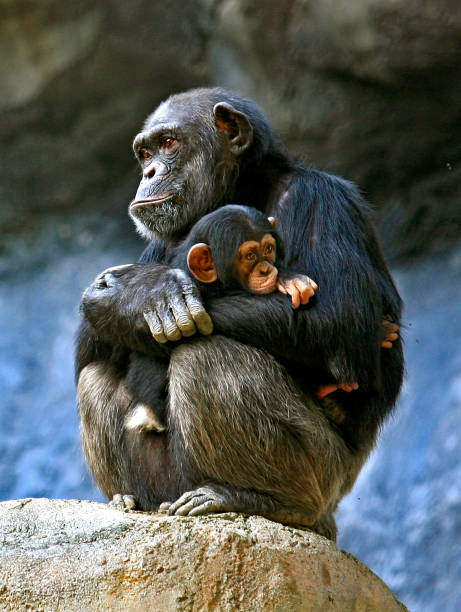chimpanzee: (109, 75, 288, 238), (177, 192, 307, 324)
